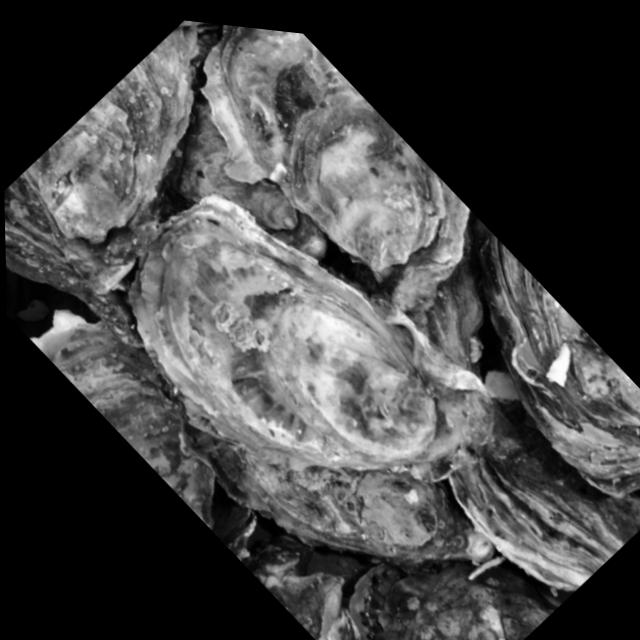Oyster-Closed: (127, 197, 494, 484), (202, 25, 469, 310), (181, 424, 495, 565), (29, 309, 215, 533), (448, 398, 640, 593), (288, 92, 444, 269), (349, 560, 553, 640), (259, 574, 345, 640), (220, 506, 258, 543), (17, 300, 51, 325)
Oyster-Indeterminate: (472, 216, 640, 497), (26, 26, 197, 244), (170, 104, 327, 259), (4, 175, 143, 347), (21, 173, 166, 293), (405, 225, 484, 386), (192, 153, 298, 230)
